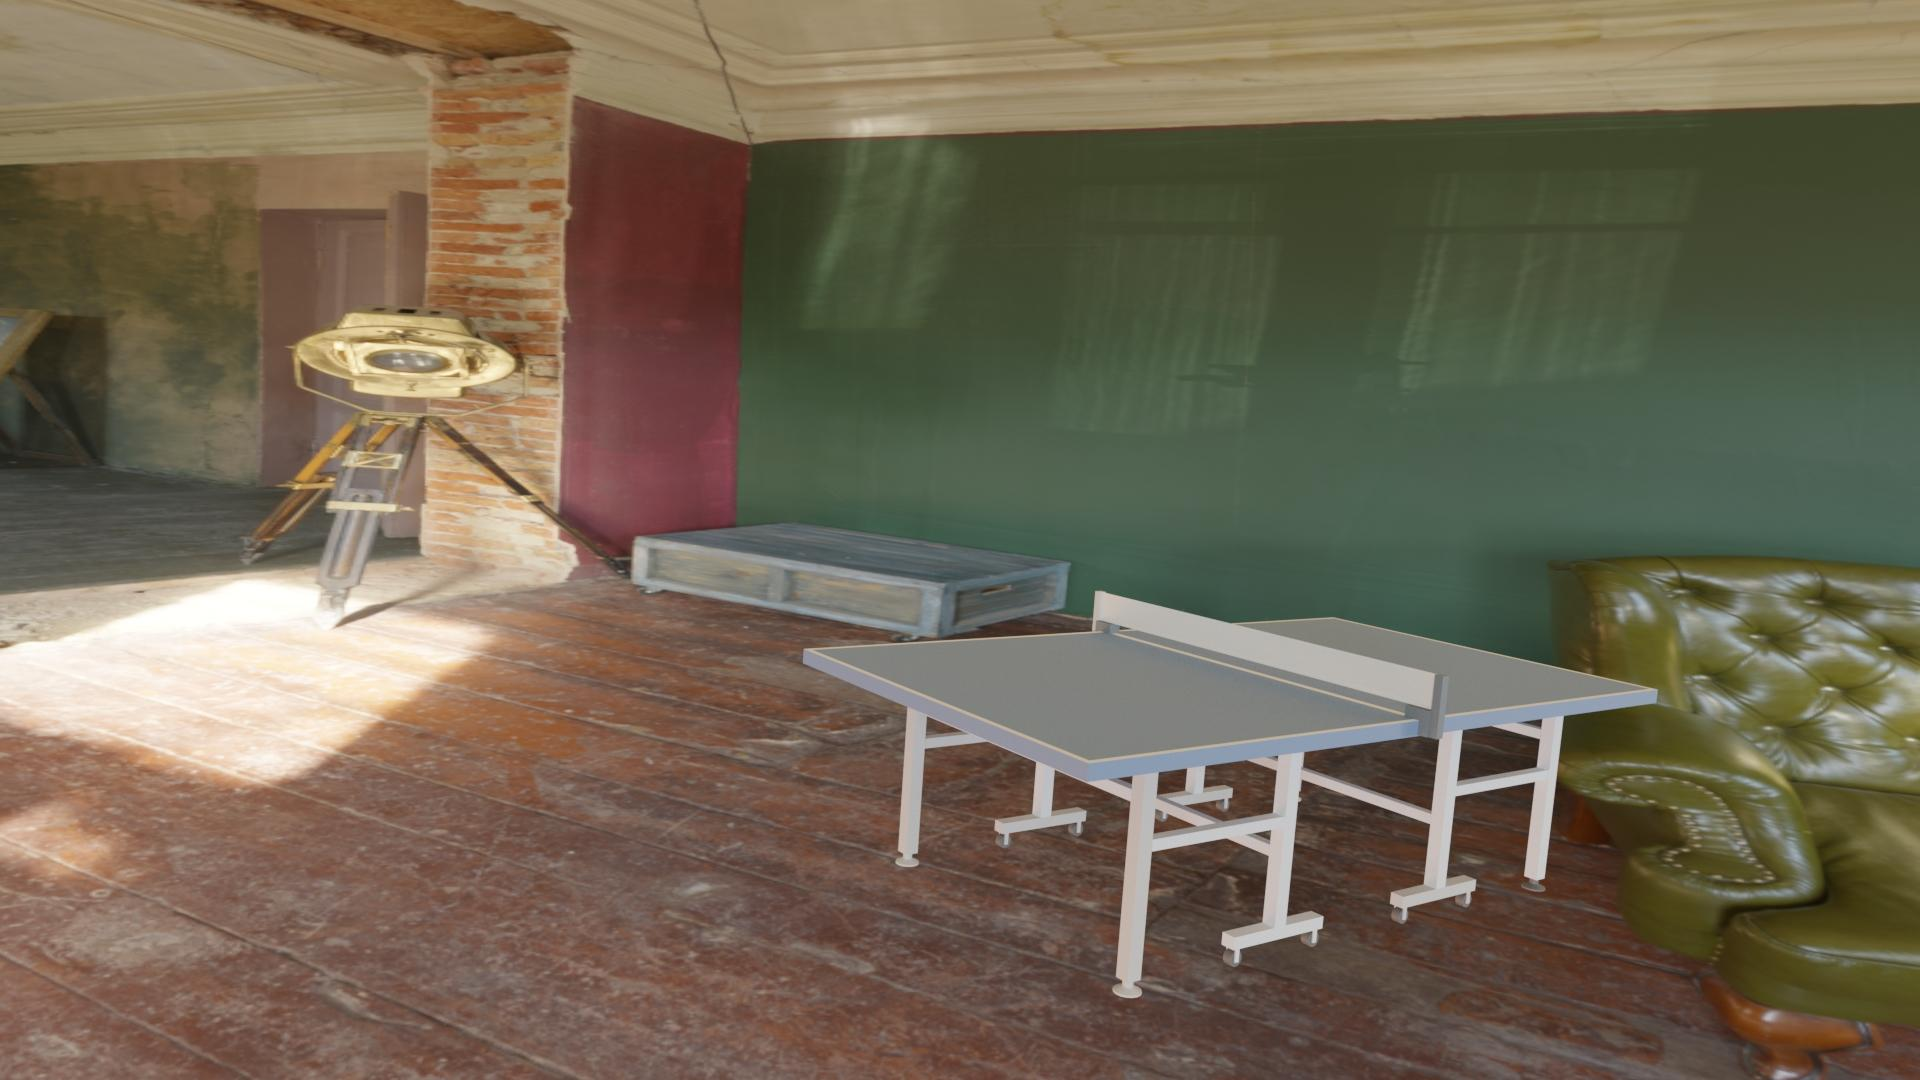table: (812, 618, 1650, 761)
